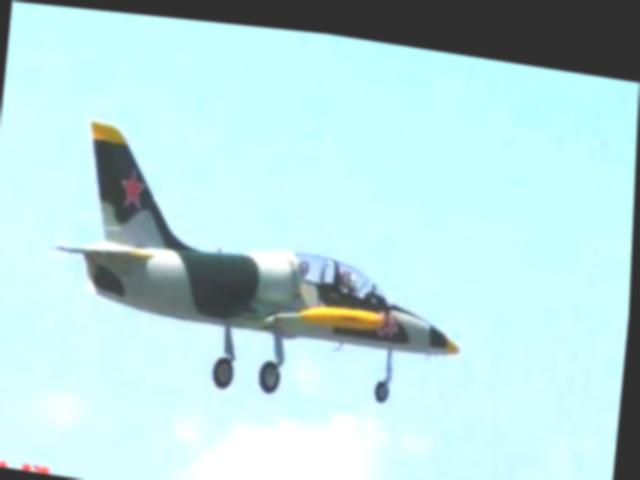uav: (39, 104, 485, 426)
